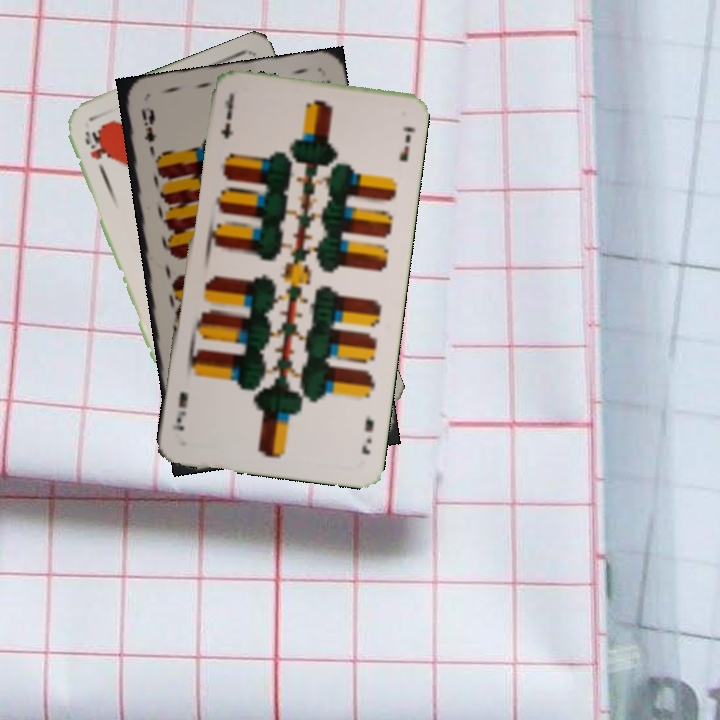E7: (357, 411, 376, 457), (217, 93, 235, 141)
E9: (137, 105, 162, 159)
HO: (80, 127, 109, 180)
